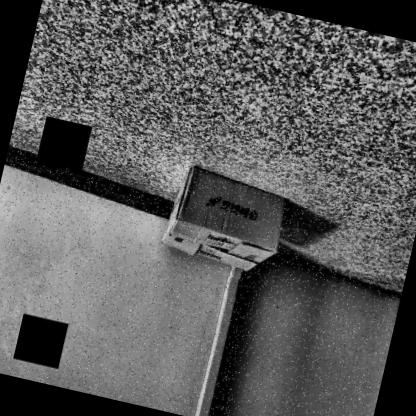box: (148, 151, 297, 287)
